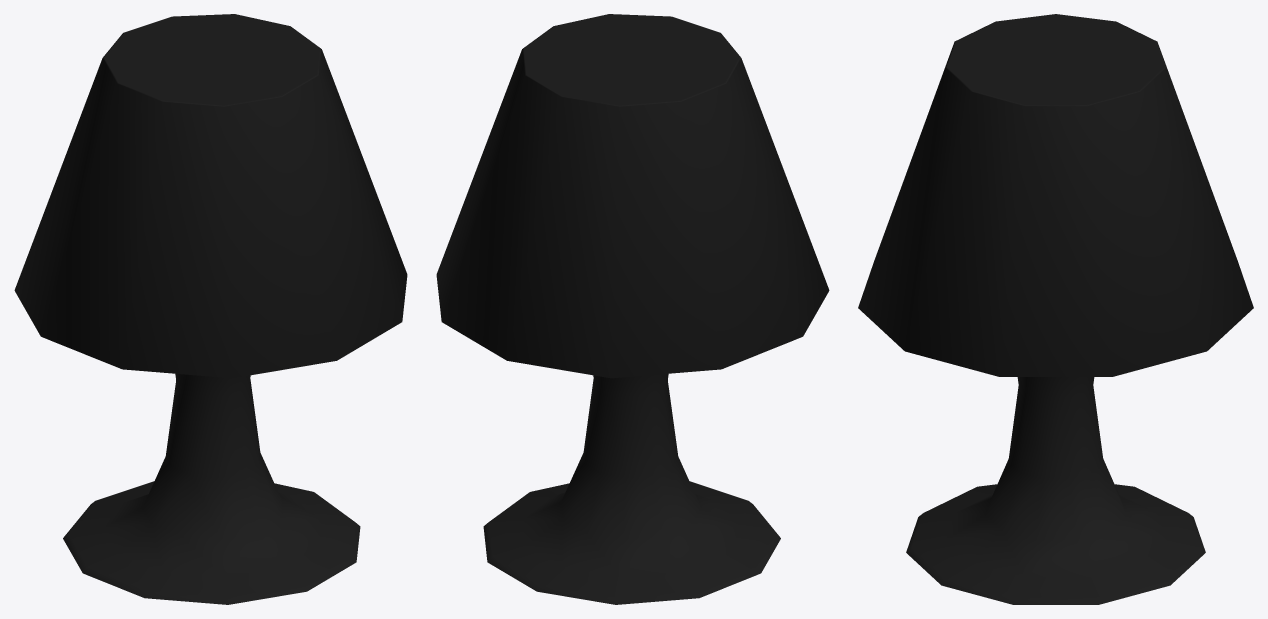
Rendered from deskLampBlack.fbx.
3 renders of one model, left to right at view 1: azimuth 30°, elevation 25°; view 2: azimuth 150°, elevation 25°; view 3: azimuth 270°, elevation 25°, orthographic.
Visible parts, largest first — view 1: deskLampBlack; view 2: deskLampBlack; view 3: deskLampBlack.
Boxes of the visible parts, x1=… form: deskLampBlack: x1=14, y1=14, x2=407, y2=604; deskLampBlack: x1=436, y1=14, x2=829, y2=604; deskLampBlack: x1=858, y1=14, x2=1253, y2=604.
Bounding box in the file's own units: 0.5422 × 0.7383 × 0.5478.
Materials: 1 (1 with a texture image).
